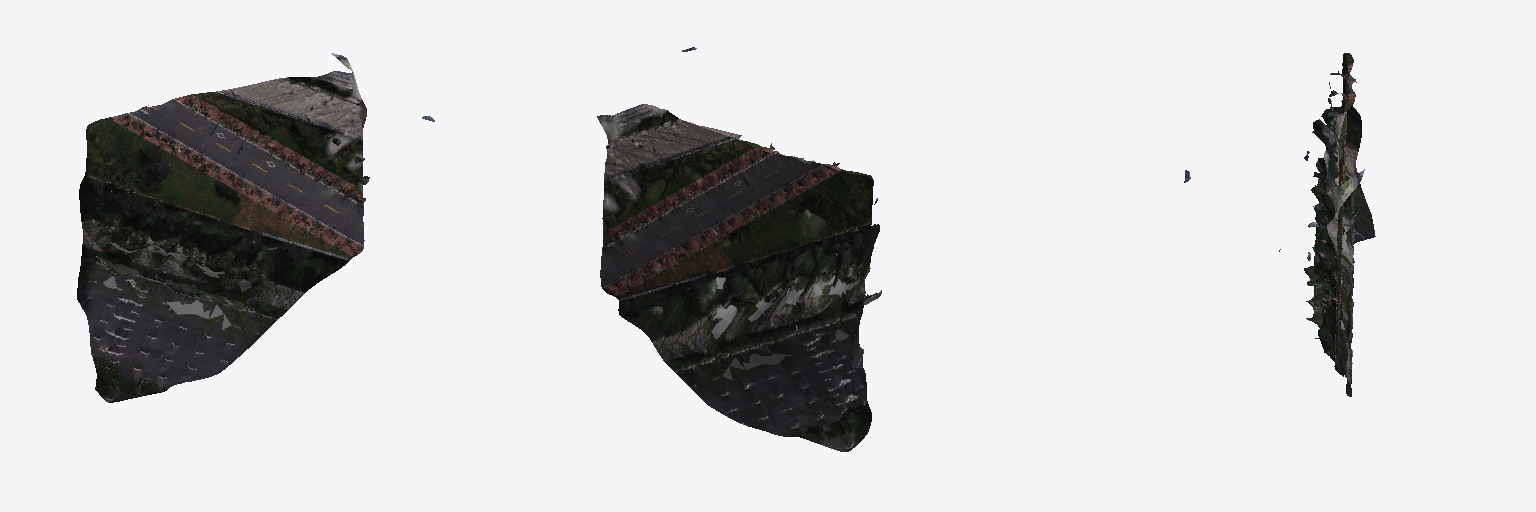
3 renders of one model, left to right at view 1: azimuth 30°, elevation 25°; view 2: azimuth 150°, elevation 25°; view 3: azimuth 270°, elevation 25°, orthographic.
Size of the model in its own units: 61.04 by 61.33 by 36.67.
Materials: 2 (1 with a texture image).